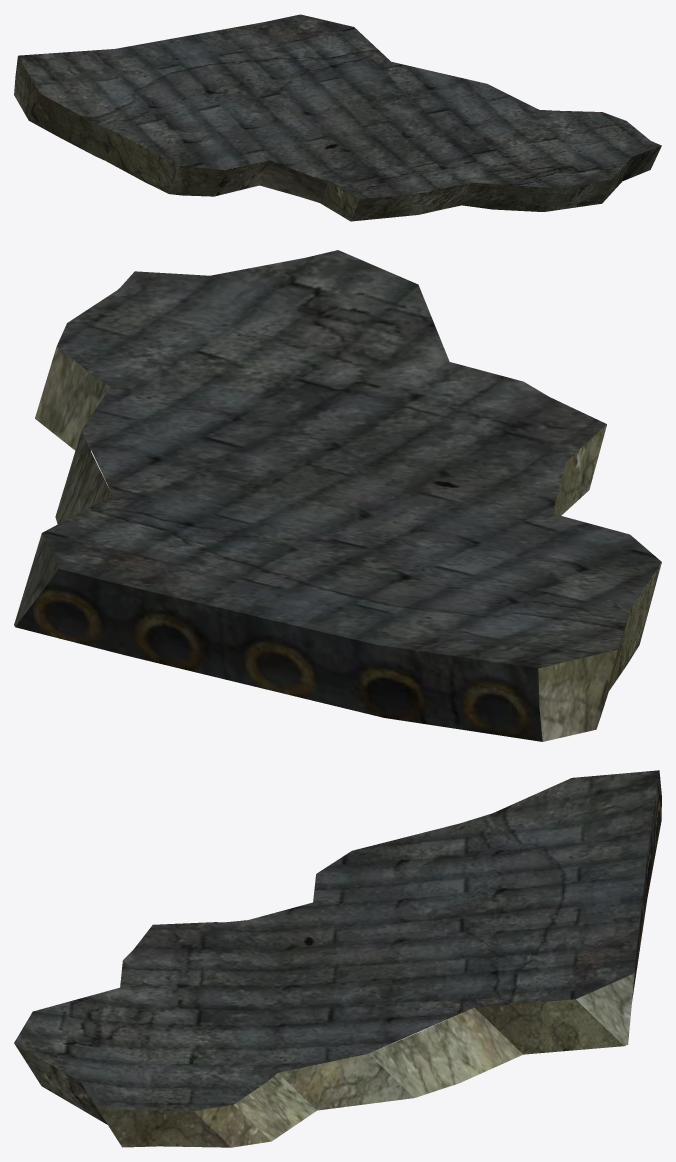
File: TW2_9_ADDONS_12_6_7-transformed.glb
3 views of the same model, one above another, from view 1: azimuth 30°, elevation 25°; view 2: azimuth 150°, elevation 25°; view 3: azimuth 270°, elevation 25° (orthographic). The views are drawn at different scales.
Parts seen in each view (by area): view 1: default; view 2: default; view 3: default.
Part boxes in pixels (x1,y1,x2,y2): default: [14, 14, 661, 221]; default: [14, 250, 661, 741]; default: [14, 770, 661, 1147].
Size of the model in its own units: 1.64 by 0.2643 by 1.55.
Materials: 2 (2 with a texture image).
